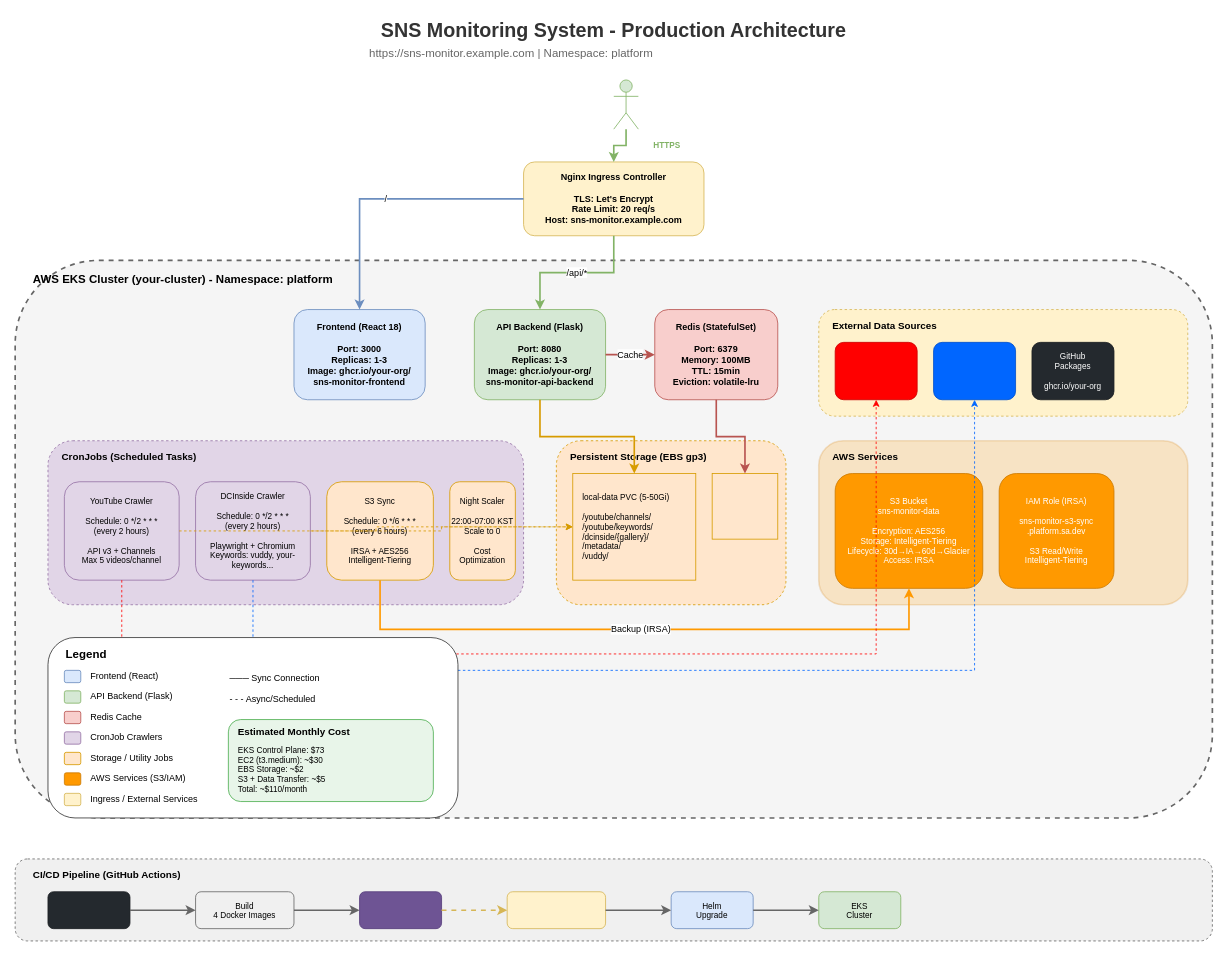
Some shapes in this 1227 by 955 pixel diagram are drawn without their labels. The shapes that lost their labels are listed below. From the top down, each one's centre as x and y in pixels, then its label:
At [625,104]: "Users".
At [875,371]: "YouTube Data API v3 Quota: 10K/day".
At [974,371]: "DCInside Website Web Scraping".
At [744,506]: "Redis PVC (1Gi gp3) dump.rdb".
At [88,910]: "Push to main branch".
At [400,910]: "Push to ghcr.io".
At [556,910]: "Manual Deploy (Private Endpoint)".
